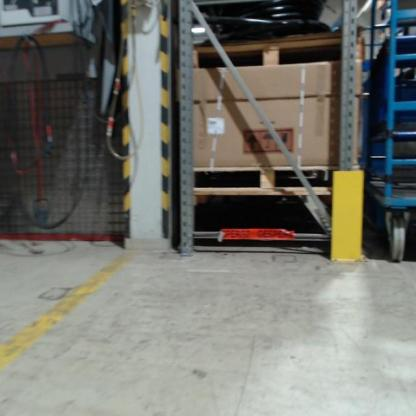pallet: (191, 33, 366, 71), (192, 165, 336, 196)
